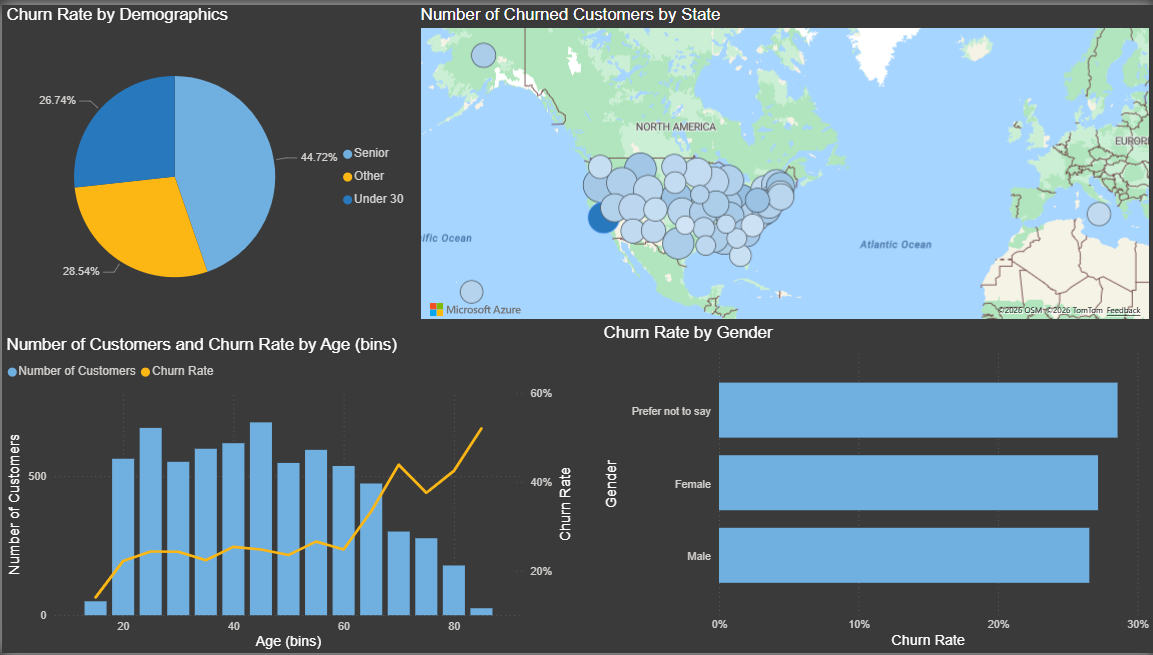

The page's visual inventory and layout, read from the dashboard file:
{"tool":"powerbi","page":{"name":"Demographics","canvas":[1280,720],"ordinal":1},"visuals":[{"type":"pieChart","fields":{"Y":["Databel - Data.Churn Rate"],"Category":["Databel - Data.Demographics"]},"box":[0,0,460,360],"z":0},{"type":"lineStackedColumnComboChart","fields":{"Category":["Databel - Data.Age (bins)"],"Y":["Databel - Data.Number of Customers"],"Y2":["Databel - Data.Churn Rate"]},"box":[0,366,640,354],"z":1000},{"type":"azureMap","fields":{"Category":["Databel - Data.State"],"Size":["Databel - Data.Number of Churned Customers"]},"box":[460,0,820,354],"z":2000},{"type":"clusteredColumnChart","fields":{"Category":["Databel - Data.Contract Category"],"Y":["Databel - Data.Churn Rate"],"Series":["Databel - Data.Gender"]},"box":[664,354,616,366],"z":3000}]}

Visuals, with their boxes in screenshot pixels (x1, y1, x2, y2), scaled from the page's 1280x720 canvas onto the 1153x655 screenshot:
pieChart - Databel - Data.Churn Rate x Databel - Data.Demographics: detection(0, 0, 414, 328)
lineStackedColumnComboChart - Databel - Data.Age (bins) x Databel - Data.Number of Customers: detection(0, 333, 576, 654)
azureMap - Databel - Data.State x Databel - Data.Number of Churned Customers: detection(414, 0, 1152, 322)
clusteredColumnChart - Databel - Data.Contract Category x Databel - Data.Churn Rate: detection(598, 322, 1152, 654)
